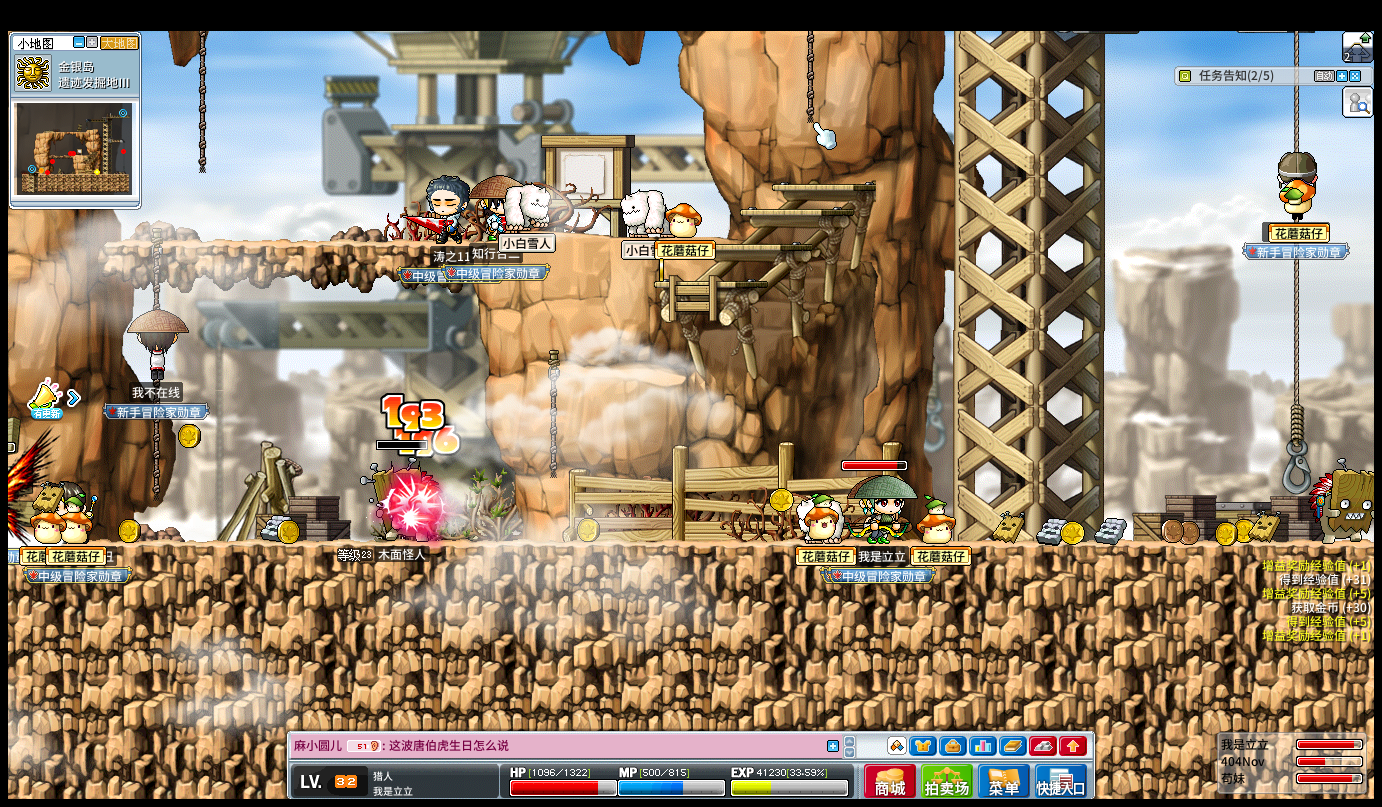floor: (105, 239, 482, 249), (575, 366, 690, 390), (599, 231, 739, 240), (650, 280, 768, 288), (736, 207, 852, 215), (708, 242, 811, 250), (771, 184, 877, 191)
monster: (365, 459, 439, 541), (1309, 461, 1378, 541)
rope: (544, 354, 558, 480), (1292, 256, 1303, 409), (198, 32, 207, 173), (146, 230, 161, 309), (805, 29, 814, 124), (1292, 30, 1299, 148), (1289, 399, 1304, 444), (152, 421, 160, 504)
